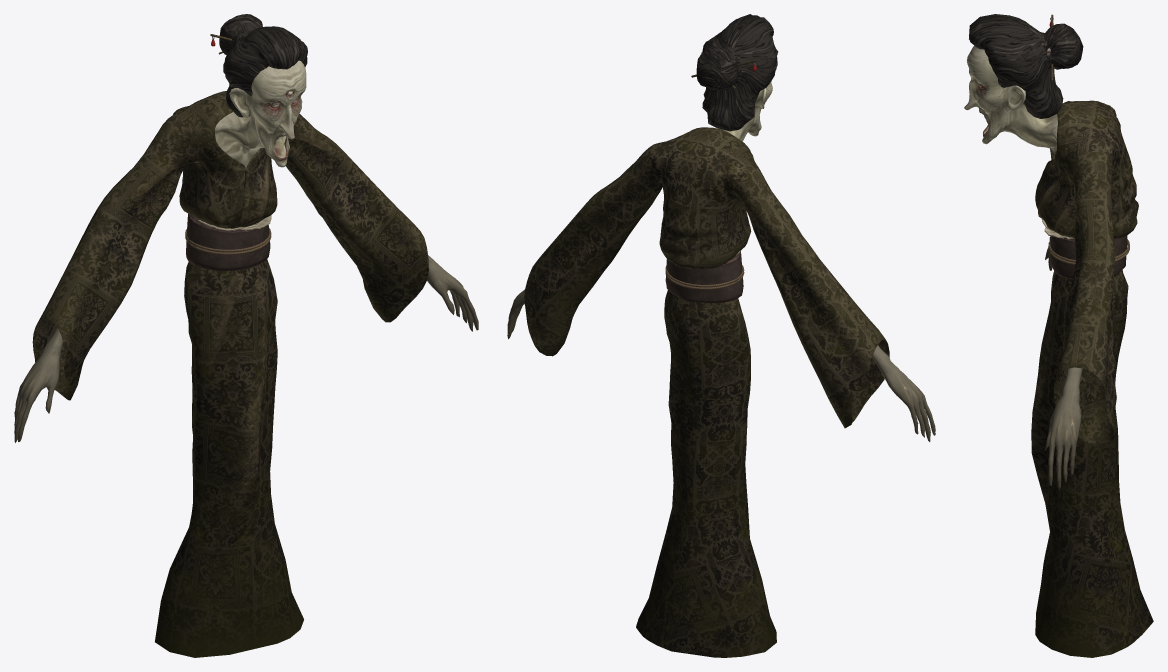
3 renders of one model, left to right at view 1: azimuth 30°, elevation 25°; view 2: azimuth 150°, elevation 25°; view 3: azimuth 270°, elevation 25°, orthographic. The views are drawn at different scales.
Parts seen in each view (by area): view 1: falda_low, blusa_low, cabeza_low, pelo_low, brazos_low, faja_low; view 2: blusa_low, falda_low, pelo_low, faja_low, brazos_low, cabeza_low; view 3: falda_low, blusa_low, pelo_low, cabeza_low, brazos_low, faja_low, cuerdas_low.
Boxes of the visible parts, box(x1,y1,x2,y2) form: falda_low: box(155, 259, 303, 657); blusa_low: box(32, 91, 428, 400); cabeza_low: box(215, 60, 306, 169); pelo_low: box(219, 14, 307, 117); brazos_low: box(14, 255, 478, 442); faja_low: box(186, 214, 270, 271); blusa_low: box(524, 127, 889, 428); falda_low: box(636, 290, 776, 657); pelo_low: box(696, 14, 778, 131); faja_low: box(665, 251, 743, 302); brazos_low: box(507, 289, 935, 441); cabeza_low: box(722, 68, 776, 141); falda_low: box(1031, 270, 1153, 657); blusa_low: box(1035, 100, 1138, 443); pelo_low: box(969, 14, 1083, 118); cabeza_low: box(964, 45, 1057, 157); brazos_low: box(1045, 237, 1082, 489); faja_low: box(1050, 235, 1127, 279); cuerdas_low: box(1048, 239, 1129, 264).
Size of the model in its own units: 0.125 by 0.164 by 0.0464.
Materials: 2 (2 with a texture image).
